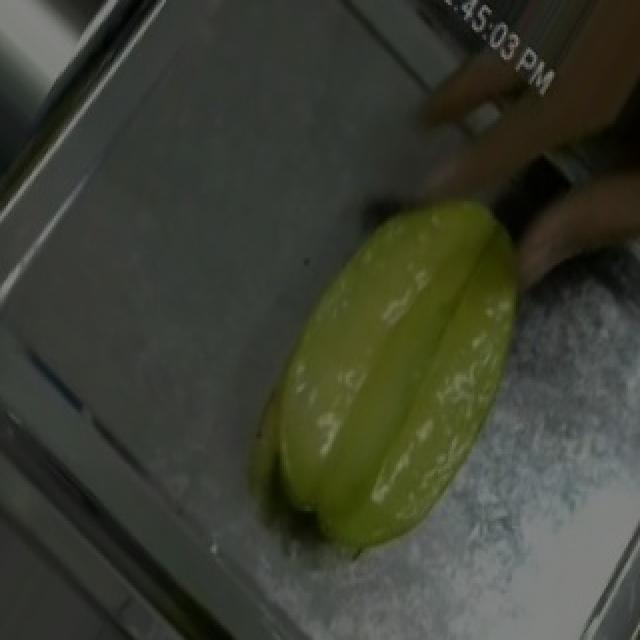fruit: (246, 164, 582, 546)
